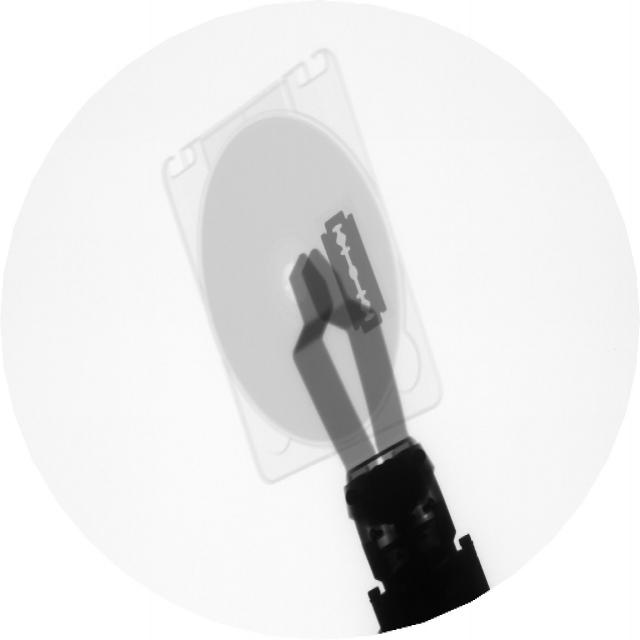BLADE: (317, 202, 396, 341)
